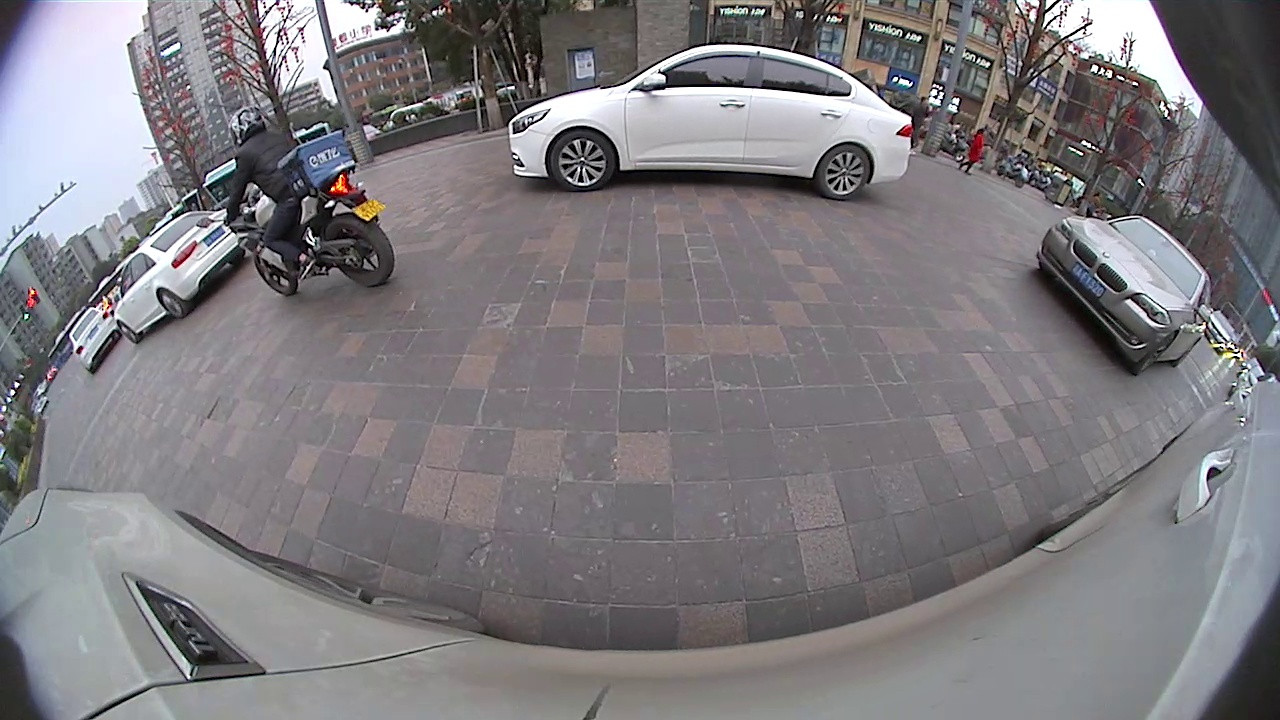car: (506, 41, 916, 203), (1035, 211, 1214, 378), (112, 206, 247, 346), (68, 304, 127, 376)
front: (545, 128, 620, 196), (248, 245, 299, 299)
rear: (320, 209, 398, 291), (815, 141, 873, 203), (154, 288, 187, 320)
rider: (222, 105, 398, 300)
